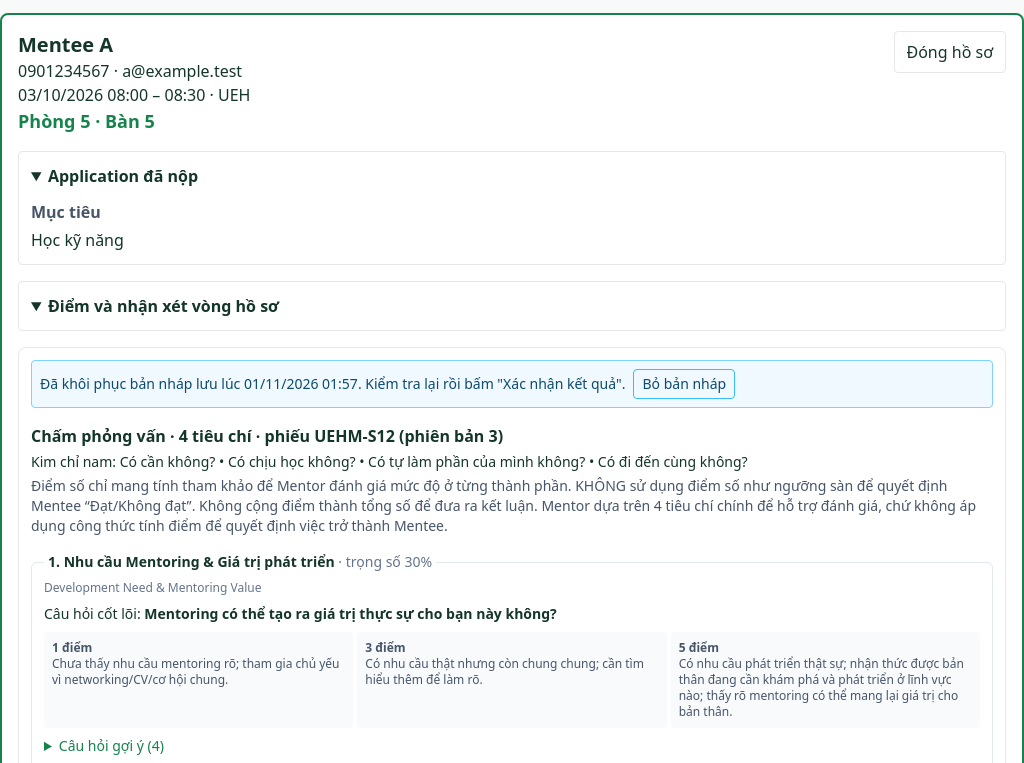
Test case: form chấm tự lưu và khôi phục nháp › 'Bỏ bản nháp' xoá nháp và trả form về trống
(page scrolled)
Click the button "Bỏ bản nháp": (684, 384) [634,369,735,399]
(page scrolled)
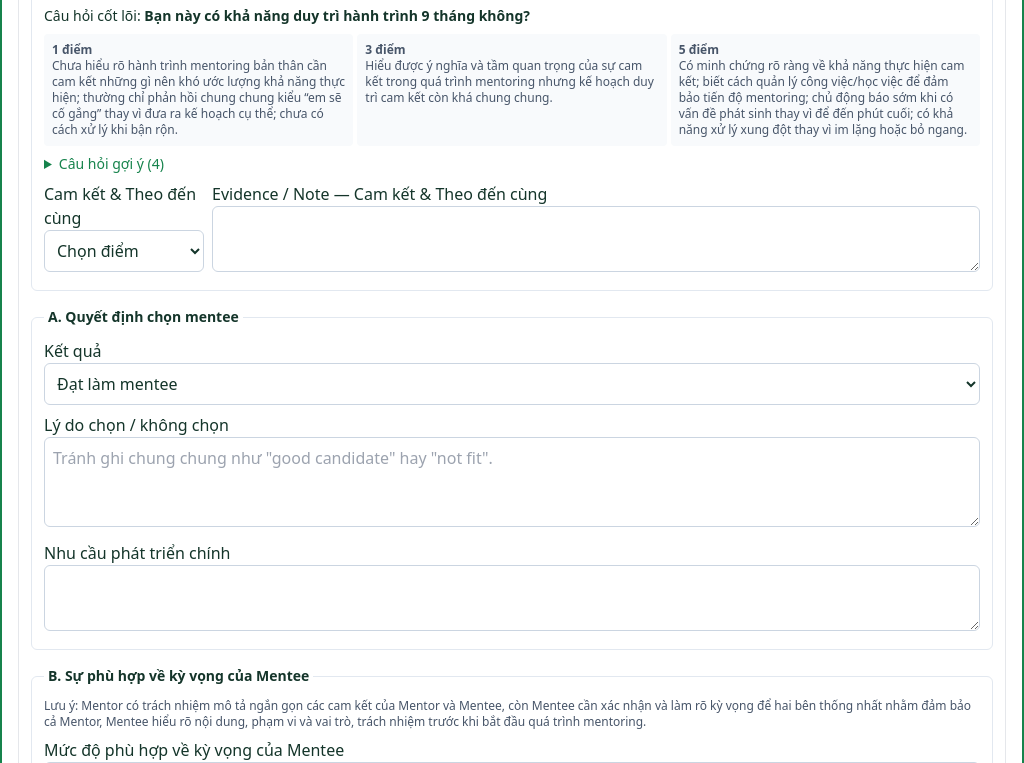
Check: the dropdown labelled "Kết quả" shows "Đạt làm mentee", box [44,363,980,405]
